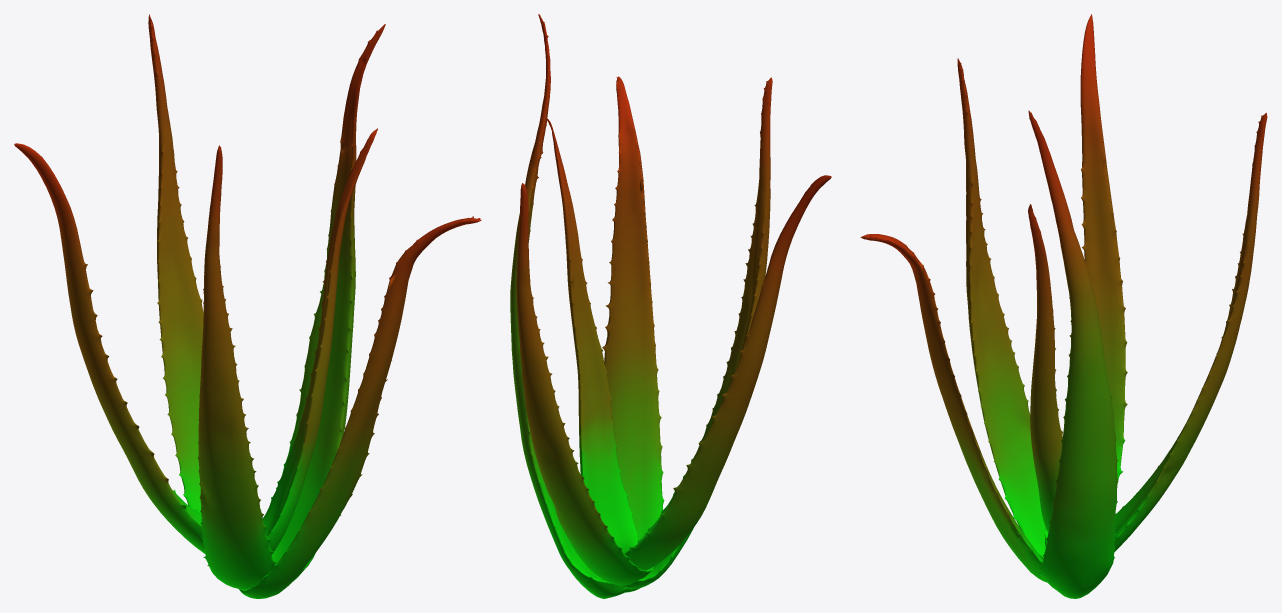
Rendered from Aloe Vera_LOD0_Var1_ve4tbbrha.fbx.
3 renders of one model, left to right at view 1: azimuth 30°, elevation 25°; view 2: azimuth 150°, elevation 25°; view 3: azimuth 270°, elevation 25°, orthographic. The views are drawn at different scales.
Parts seen in each view (by area): view 1: _83wb_Var1_LOD0; view 2: _83wb_Var1_LOD0; view 3: _83wb_Var1_LOD0.
Part boxes in pixels (box(x1,y1,x2,y2)): _83wb_Var1_LOD0: box(14, 14, 481, 598); _83wb_Var1_LOD0: box(510, 14, 831, 598); _83wb_Var1_LOD0: box(860, 14, 1267, 598).
Size of the model in its own units: 31.64 by 49.4 by 34.43.
